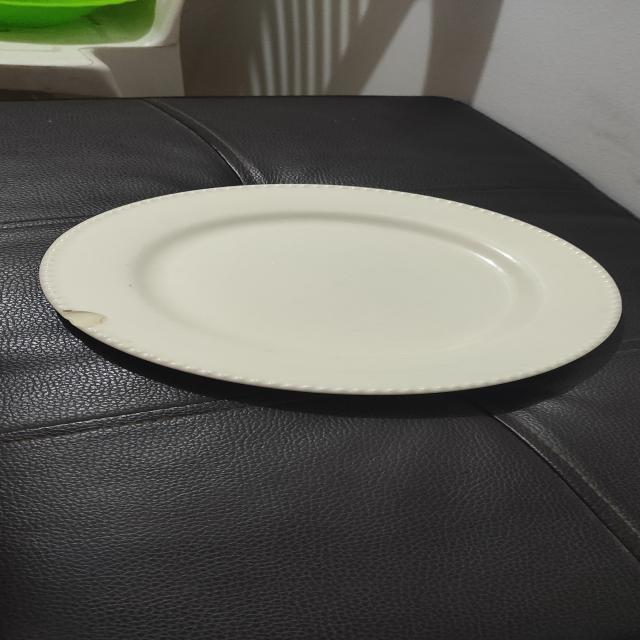ceramic plate: (0, 150, 624, 410)
